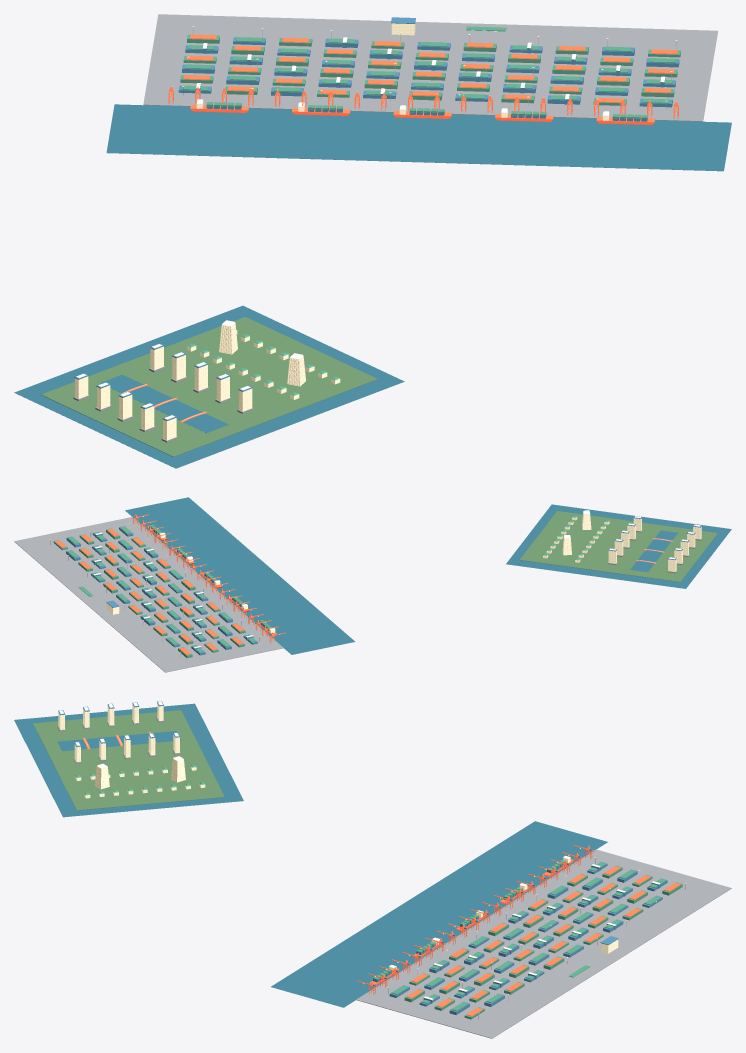
The model's file is catlai_port_south.glb.
3 views of the same model, one above another, from view 1: azimuth 30°, elevation 25°; view 2: azimuth 150°, elevation 25°; view 3: azimuth 270°, elevation 25° (orthographic). The views are drawn at different scales.
Parts seen in each view (by area): view 1: DONGNAI_RIVER_MIZUKI_CANALS, CATLAI_2040M_QUAY_CONTAINER_YARD, MIZUKI_ZEITGEIST_GREEN_ISLANDS, CONTAINER_STACKS_EVERGREEN_CFS, STS_GANTRY_CRANES_SHIP_HULLS, CONTAINER_STACKS_SNP_BLUE, MIZUKI_ZEITGEIST_TOWERS_EMISSIVE, PORT_HIGHMAST_REEFER_NIGHT_LED; view 2: DONGNAI_RIVER_MIZUKI_CANALS, CATLAI_2040M_QUAY_CONTAINER_YARD, MIZUKI_ZEITGEIST_GREEN_ISLANDS, CONTAINER_STACKS_EVERGREEN_CFS, STS_GANTRY_CRANES_SHIP_HULLS, CONTAINER_STACKS_SNP_BLUE, MIZUKI_ZEITGEIST_TOWERS_EMISSIVE, PORT_HIGHMAST_REEFER_NIGHT_LED; view 3: DONGNAI_RIVER_MIZUKI_CANALS, CATLAI_2040M_QUAY_CONTAINER_YARD, MIZUKI_ZEITGEIST_GREEN_ISLANDS, CONTAINER_STACKS_EVERGREEN_CFS, STS_GANTRY_CRANES_SHIP_HULLS, CONTAINER_STACKS_SNP_BLUE, MIZUKI_ZEITGEIST_TOWERS_EMISSIVE, PORT_HIGHMAST_REEFER_NIGHT_LED.
Part boxes in pixels (<box>): DONGNAI_RIVER_MIZUKI_CANALS: <box>14,104,731,468</box>; CATLAI_2040M_QUAY_CONTAINER_YARD: <box>73,14,717,442</box>; MIZUKI_ZEITGEIST_GREEN_ISLANDS: <box>41,317,377,456</box>; CONTAINER_STACKS_EVERGREEN_CFS: <box>180,26,680,395</box>; STS_GANTRY_CRANES_SHIP_HULLS: <box>121,34,678,422</box>; CONTAINER_STACKS_SNP_BLUE: <box>74,17,679,420</box>; MIZUKI_ZEITGEIST_TOWERS_EMISSIVE: <box>74,23,609,440</box>; PORT_HIGHMAST_REEFER_NIGHT_LED: <box>76,26,677,420</box>; DONGNAI_RIVER_MIZUKI_CANALS: <box>125,497,731,654</box>; CATLAI_2040M_QUAY_CONTAINER_YARD: <box>14,517,702,672</box>; MIZUKI_ZEITGEIST_GREEN_ISLANDS: <box>520,511,717,581</box>; CONTAINER_STACKS_EVERGREEN_CFS: <box>53,515,609,658</box>; STS_GANTRY_CRANES_SHIP_HULLS: <box>55,514,672,654</box>; CONTAINER_STACKS_SNP_BLUE: <box>66,516,701,655</box>; MIZUKI_ZEITGEIST_TOWERS_EMISSIVE: <box>106,511,701,633</box>; PORT_HIGHMAST_REEFER_NIGHT_LED: <box>50,510,700,652</box>; DONGNAI_RIVER_MIZUKI_CANALS: <box>14,703,607,1007</box>; CATLAI_2040M_QUAY_CONTAINER_YARD: <box>57,716,731,1038</box>; MIZUKI_ZEITGEIST_GREEN_ISLANDS: <box>33,710,224,810</box>; CONTAINER_STACKS_EVERGREEN_CFS: <box>76,764,682,1019</box>; STS_GANTRY_CRANES_SHIP_HULLS: <box>82,732,680,1016</box>; CONTAINER_STACKS_SNP_BLUE: <box>58,701,667,1014</box>; MIZUKI_ZEITGEIST_TOWERS_EMISSIVE: <box>58,703,618,969</box>; PORT_HIGHMAST_REEFER_NIGHT_LED: <box>59,701,686,1013</box>.
Bounding box in the file's own units: 3771 × 113 × 3414.
